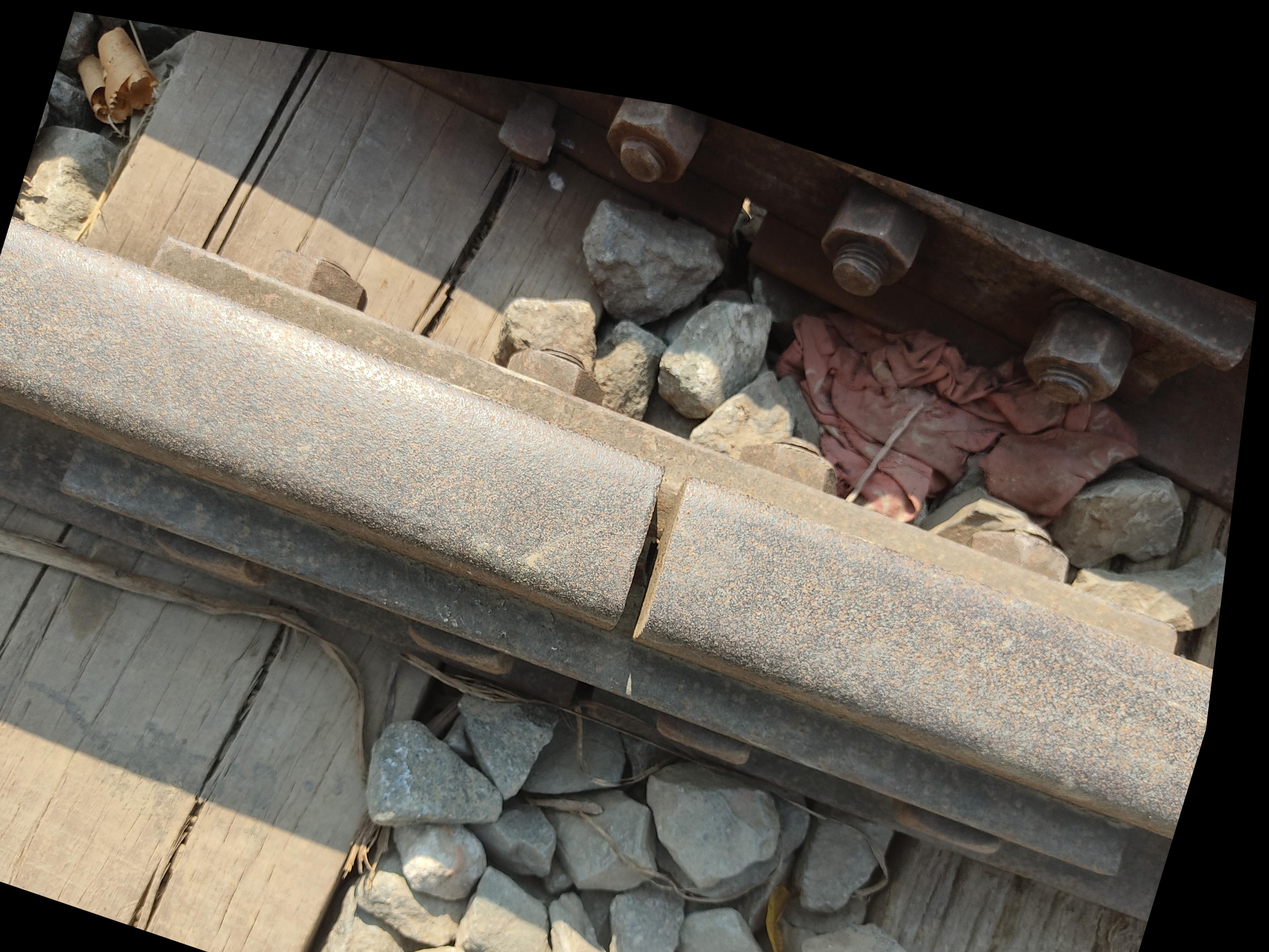person: (595, 273, 928, 614)
